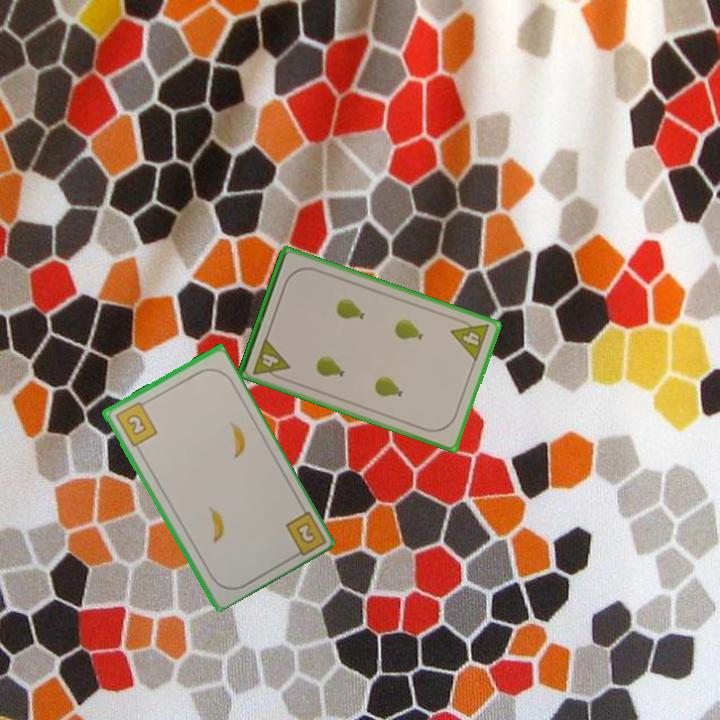2b: (111, 397, 160, 449), (281, 507, 326, 562)
4p: (447, 314, 493, 364), (249, 334, 293, 383)
